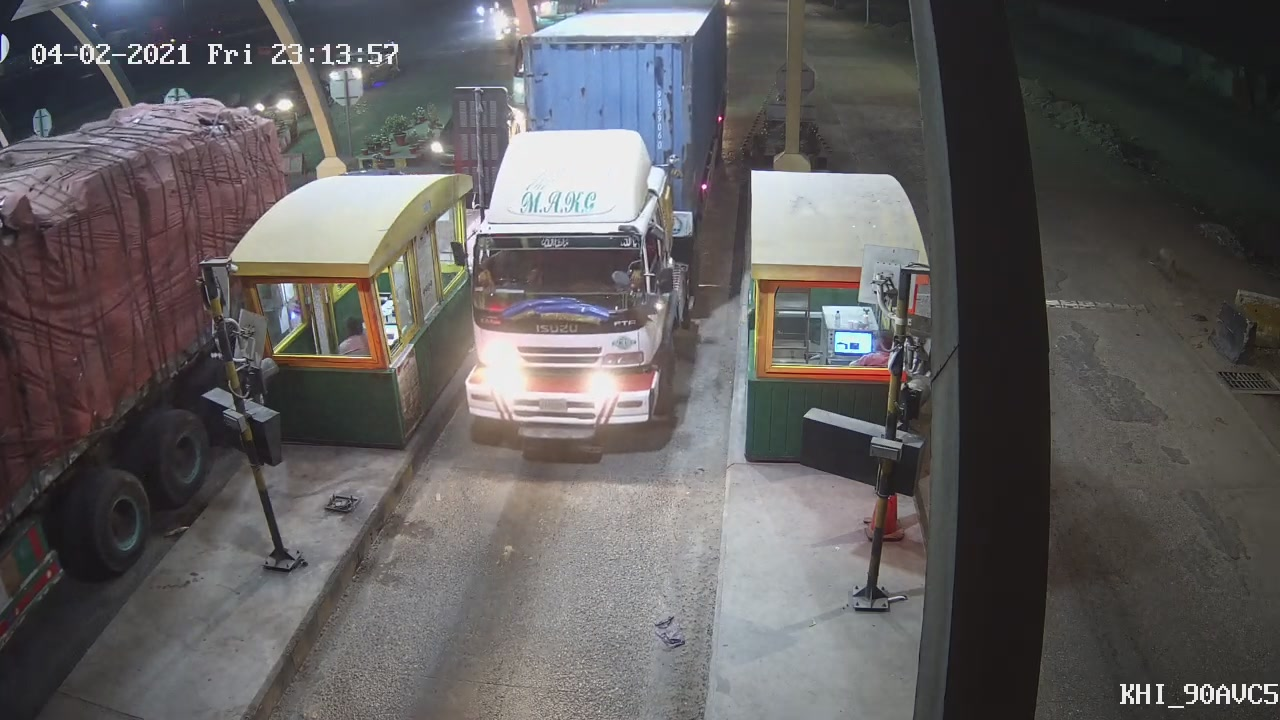F6: (440, 8, 727, 441)
